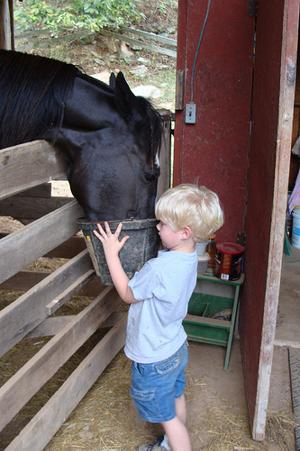person: (94, 184, 224, 448)
